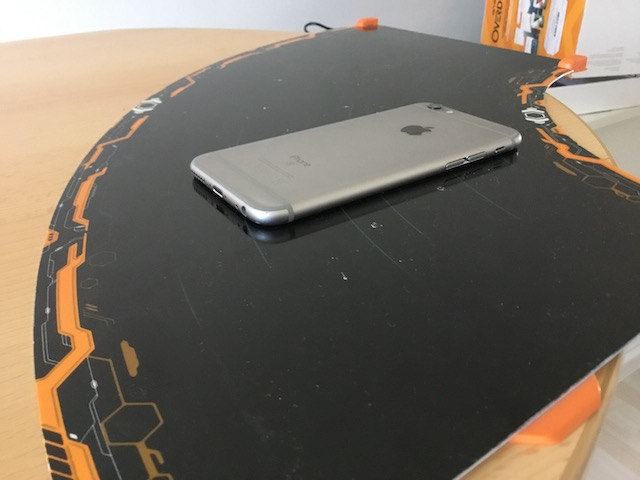phone: (186, 98, 525, 228)
